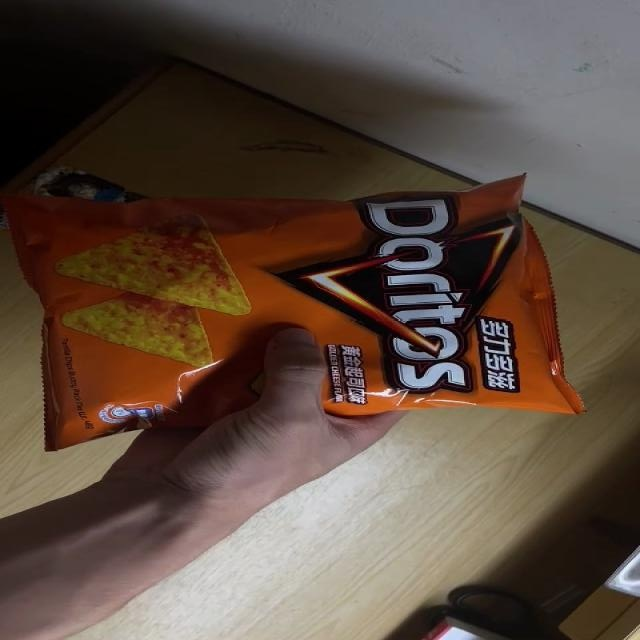Doritos: (0, 170, 586, 453)
